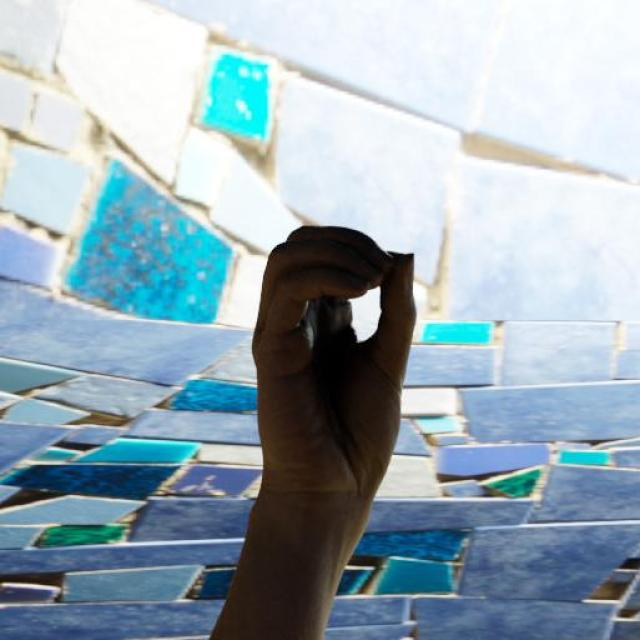O: (249, 222, 423, 508)
